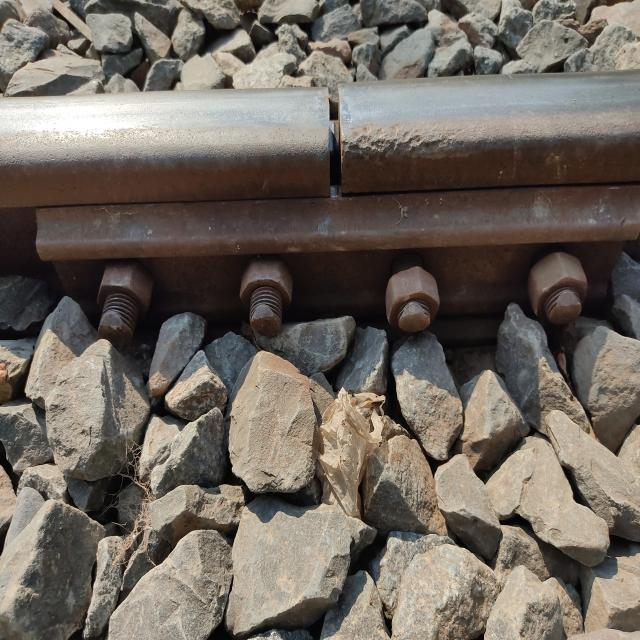Good Joint: (0, 184, 640, 342)
